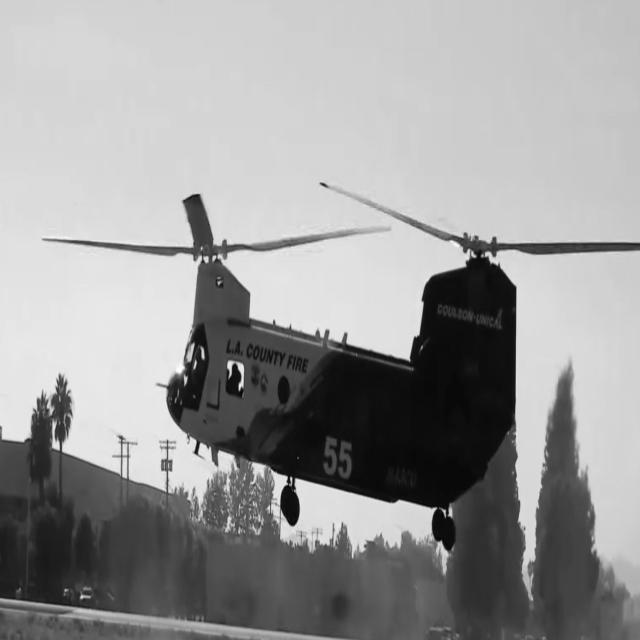Helicopter: (46, 193, 640, 553)
